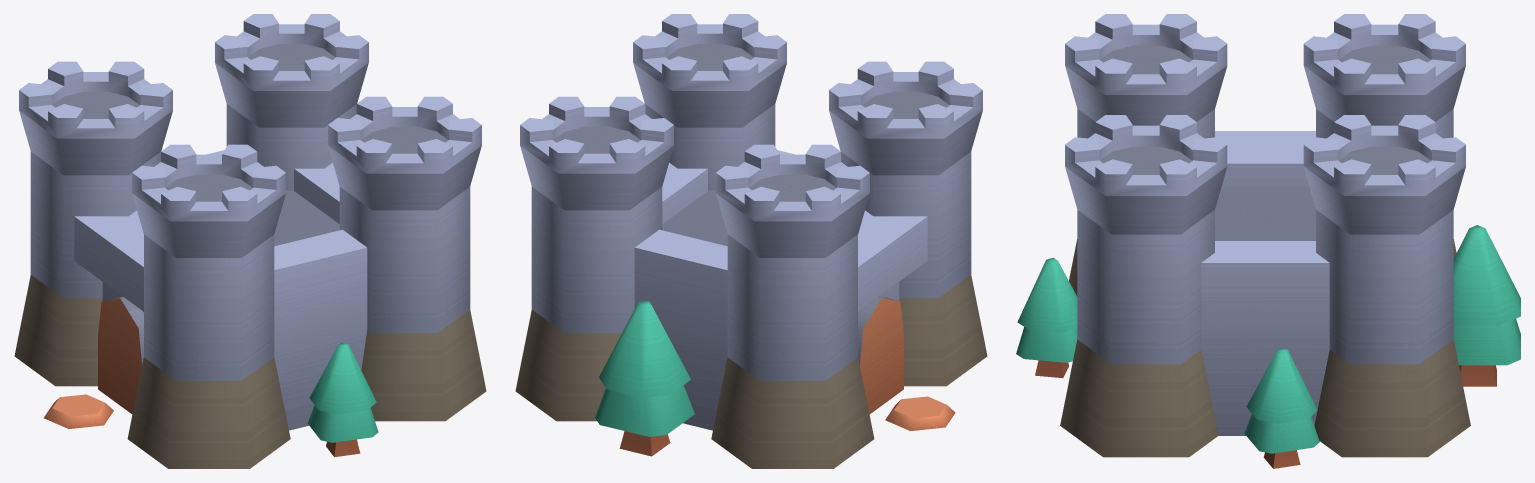
File: hx_building-castle.glb
3 views of the same model, side by side, from view 1: azimuth 30°, elevation 25°; view 2: azimuth 150°, elevation 25°; view 3: azimuth 270°, elevation 25° (orthographic). The views are drawn at different scales.
Bounding box in the file's own units: 0.9354 × 0.598 × 0.9732.
1 material, 1 textured.
